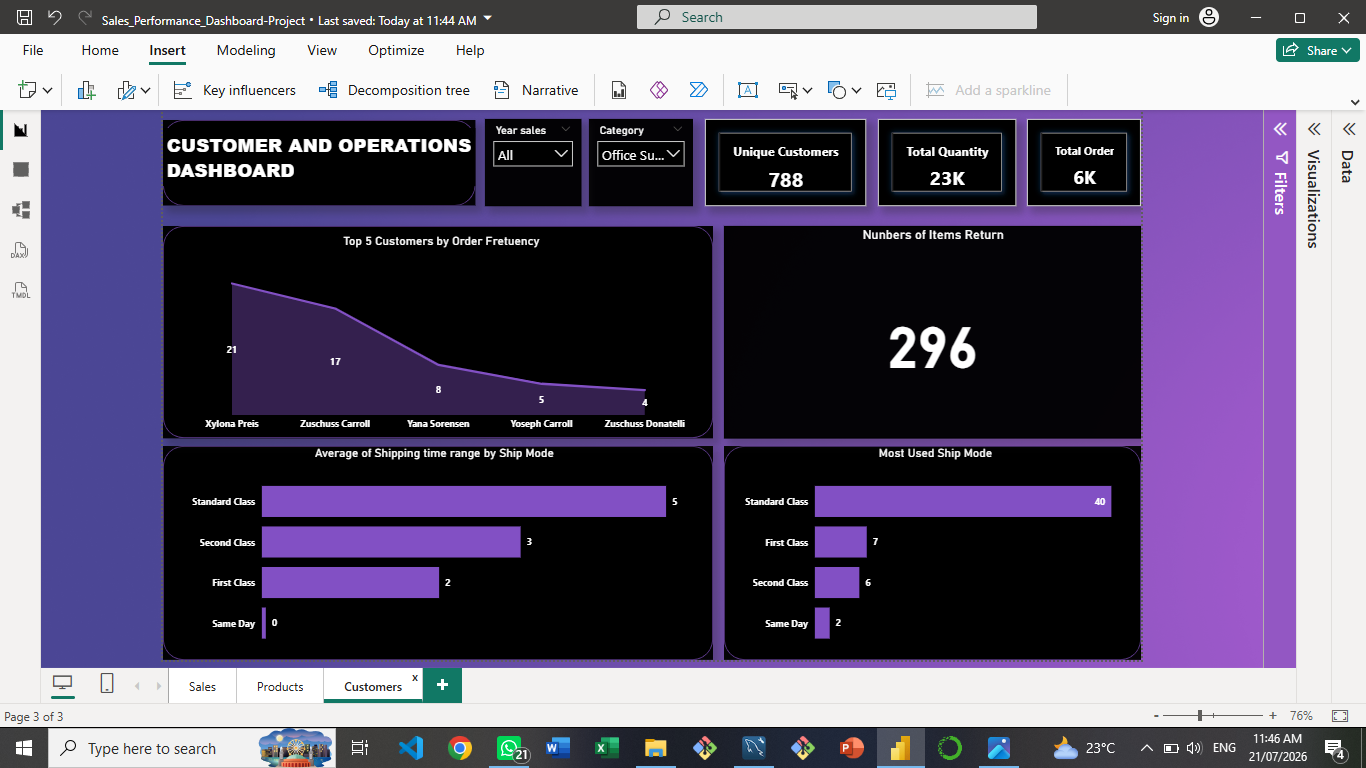

The dashboard page shown, as its layout file describes it:
{"tool":"powerbi","page":{"name":"Customers","canvas":[1280,720],"ordinal":2},"visuals":[{"type":"shape","box":[724,434.9,556,284.9],"z":0},{"type":"shape","box":[0,433.5,719.8,286.3],"z":1000},{"type":"shape","box":[0,130.8,719.8,298.7],"z":2000},{"type":"stackedAreaChart","title":"Top 5 Customers by Order Fretuency","fields":{"Category":["Order.Customer Name"],"Y":["Order.Total Order"]},"box":[31.4,162.3,666.3,267.1],"z":3000},{"type":"cardVisual","fields":{"Data":["Order.Total Quantity"]},"box":[920.8,12.4,180.3,112.9],"z":4000},{"type":"cardVisual","fields":{"Data":["Order.Total Order"]},"box":[1119,12.4,161,112.9],"z":5000},{"type":"cardVisual","fields":{"Data":["Order.Unique Customers"]},"box":[697.8,12.4,210.6,112.9],"z":6000},{"type":"clusteredBarChart","fields":{"Category":["Order.Ship Mode"],"Y":["Avg(Order.Shipping time range)"]},"box":[31.4,439.9,648,280.1],"z":7000},{"type":"barChart","title":"Most Used Ship Mode","fields":{"Category":["Order.Ship Mode"],"Y":["CountNonNull(Order.Ship Mode)"]},"box":[755.3,439.9,511.9,280.1],"z":8000},{"type":"card","title":"Nunbers of Items Return","fields":{"Values":["Return.Measure"]},"box":[724,132.1,556,297.3],"z":9000},{"type":"slicer","fields":{"Values":["Order.Category"]},"box":[547.8,12.4,136.3,112.9],"z":10000},{"type":"slicer","fields":{"Values":["Order.Year sales"]},"box":[414.3,12.4,126.6,112.9],"z":11000},{"type":"shape","box":[0,13,409,112.3],"z":12000},{"type":"textbox","box":[0,23,409,76.3],"z":13000}]}

Visuals, with their boxes on the page's 1280x720 design canvas (x1, y1, x2, y2). These are canvas units, not pixel positions in the 1366x768 screenshot, which may show the page scaled, cropped or inside an application window:
shape: box=[724, 435, 1280, 720]
shape: box=[0, 434, 720, 720]
shape: box=[0, 131, 720, 430]
"Top 5 Customers by Order Fretuency" stackedAreaChart: box=[31, 162, 698, 429]
cardVisual - Order.Total Quantity: box=[921, 12, 1101, 125]
cardVisual - Order.Total Order: box=[1119, 12, 1280, 125]
cardVisual - Order.Unique Customers: box=[698, 12, 908, 125]
clusteredBarChart - Order.Ship Mode x Avg(Order.Shipping time range): box=[31, 440, 679, 720]
"Most Used Ship Mode" barChart: box=[755, 440, 1267, 720]
"Nunbers of Items Return" card: box=[724, 132, 1280, 429]
slicer - Order.Category: box=[548, 12, 684, 125]
slicer - Order.Year sales: box=[414, 12, 541, 125]
shape: box=[0, 13, 409, 125]
textbox: box=[0, 23, 409, 99]
